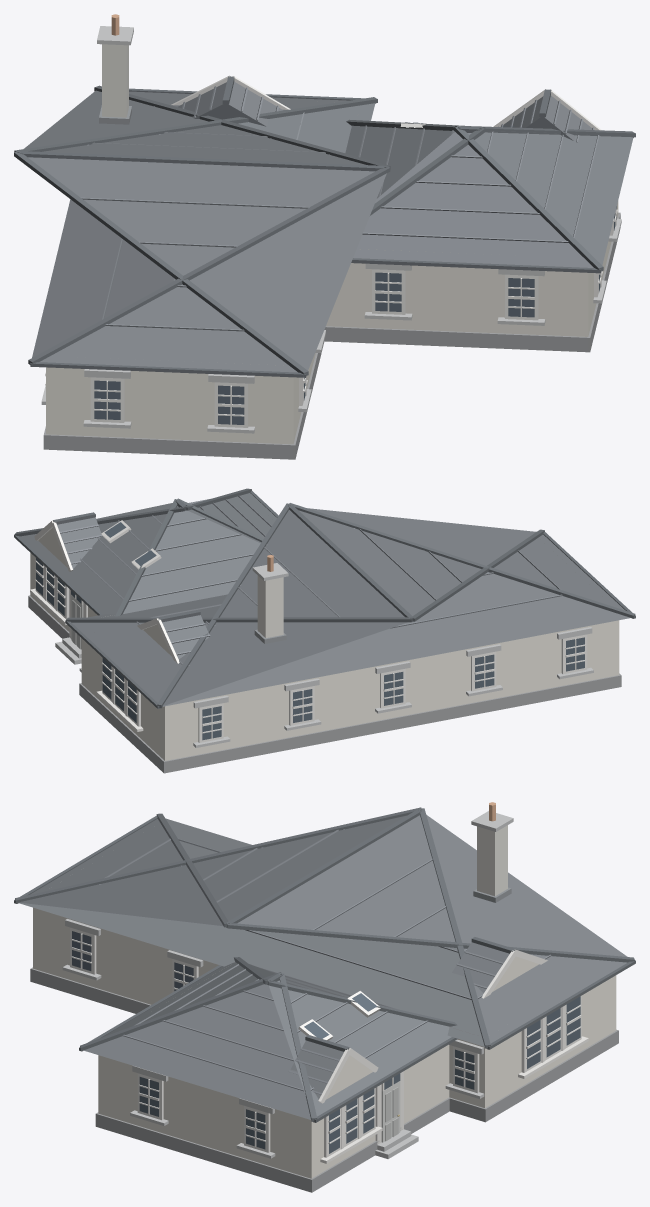
The picture shows the model from 3 angles, top to bottom: view 1: azimuth 30°, elevation 25°; view 2: azimuth 150°, elevation 25°; view 3: azimuth 270°, elevation 25°; orthographic projection. The views are drawn at different scales.
Parts seen in each view (by area): view 1: slate, harl_cream, slate_dk, plinth, frame, slate_lt, stone_band, chim_render, window_glass_018, window_glass_022, window_glass_023, window_glass_019; view 2: slate, harl_cream, slate_dk, plinth, frame, stone_band, slate_lt, chim_render, window_glass_012, window_glass_010, window_glass_011, window_glass_013 (+1 smaller); view 3: slate, harl_cream, slate_dk, plinth, frame, slate_lt, stone_band, chim_render, door_cad_p, door_cad, window_glass_017, window_glass_020 (+4 smaller).
Part boxes in pixels (left/top/right/bottom): slate: left=24, top=82, right=633, bottom=372; harl_cream: left=46, top=201, right=618, bottom=444; slate_dk: left=14, top=76, right=635, bottom=377; plinth: left=43, top=212, right=620, bottom=459; frame: left=45, top=75, right=617, bottom=427; slate_lt: left=81, top=86, right=599, bottom=331; stone_band: left=41, top=26, right=621, bottom=433; chim_render: left=102, top=44, right=128, bottom=117; window_glass_018: left=375, top=272, right=401, bottom=311; window_glass_022: left=94, top=380, right=120, bottom=419; window_glass_023: left=218, top=385, right=244, bottom=424; window_glass_019: left=508, top=278, right=534, bottom=317; slate: left=20, top=493, right=630, bottom=706; harl_cream: left=30, top=527, right=619, bottom=760; slate_dk: left=14, top=488, right=635, bottom=708; plinth: left=28, top=595, right=621, bottom=773; frame: left=30, top=520, right=587, bottom=742; stone_band: left=55, top=563, right=593, bottom=747; slate_lt: left=59, top=495, right=562, bottom=666; chim_render: left=257, top=575, right=283, bottom=637; window_glass_012: left=384, top=672, right=403, bottom=705; window_glass_010: left=202, top=706, right=221, bottom=740; window_glass_011: left=293, top=689, right=312, bottom=722; window_glass_013: left=475, top=654, right=494, bottom=688; slate: left=18, top=815, right=627, bottom=1119; harl_cream: left=33, top=907, right=616, bottom=1178; slate_dk: left=14, top=807, right=635, bottom=1122; plinth: left=30, top=967, right=618, bottom=1192; frame: left=70, top=927, right=588, bottom=1163; slate_lt: left=99, top=829, right=551, bottom=1094; stone_band: left=62, top=811, right=513, bottom=1158; chim_render: left=477, top=825, right=507, bottom=896; door_cad_p: left=385, top=1087, right=398, bottom=1141; door_cad: left=381, top=1081, right=400, bottom=1142; window_glass_017: left=246, top=1109, right=265, bottom=1149; window_glass_020: left=72, top=931, right=91, bottom=970.
Bounding box in the file's own units: 22.6 × 7.37 × 19.61.
